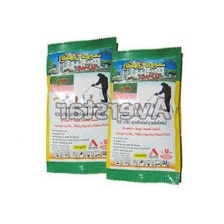insecticide: (43, 33, 128, 176), (103, 41, 186, 187)
